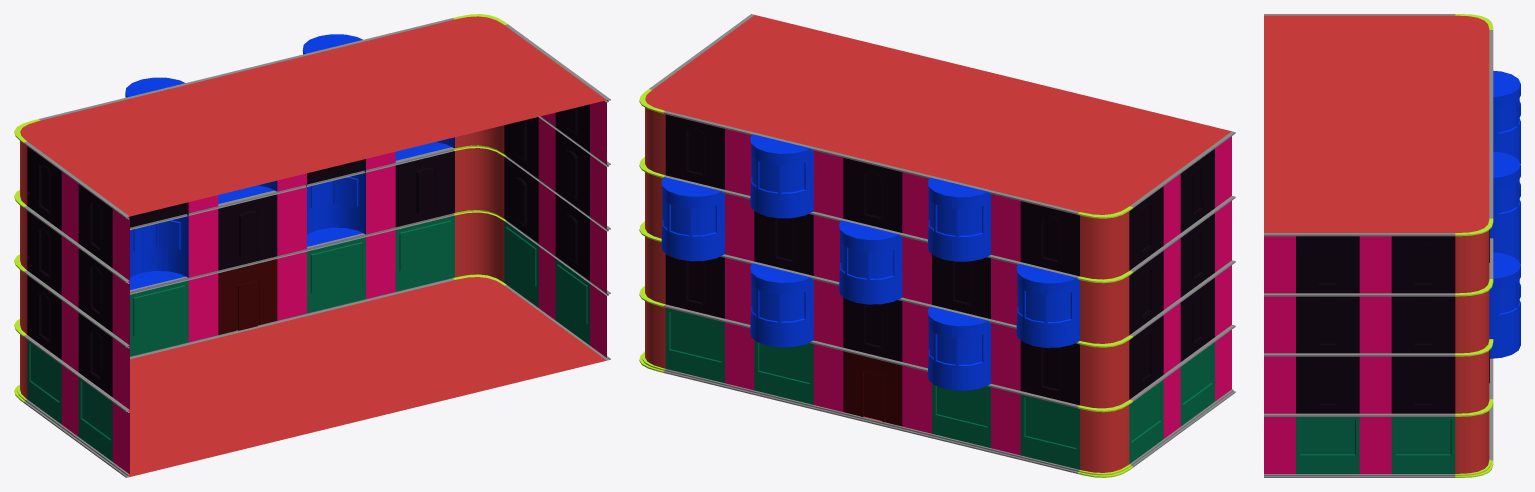
File: Home_3.FBX
3 views of the same model, side by side, from view 1: azimuth 30°, elevation 25°; view 2: azimuth 150°, elevation 25°; view 3: azimuth 270°, elevation 25° (orthographic). The views are drawn at different scales.
Visible parts, largest first — view 1: home_3; view 2: home_3; view 3: home_3.
Part boxes in pixels (x1,y1,x2,y2): home_3: (14, 14, 610, 477); home_3: (639, 14, 1235, 477); home_3: (1264, 14, 1520, 477).
Bounding box in the file's own units: 20.79 × 10.69 × 10.23.
